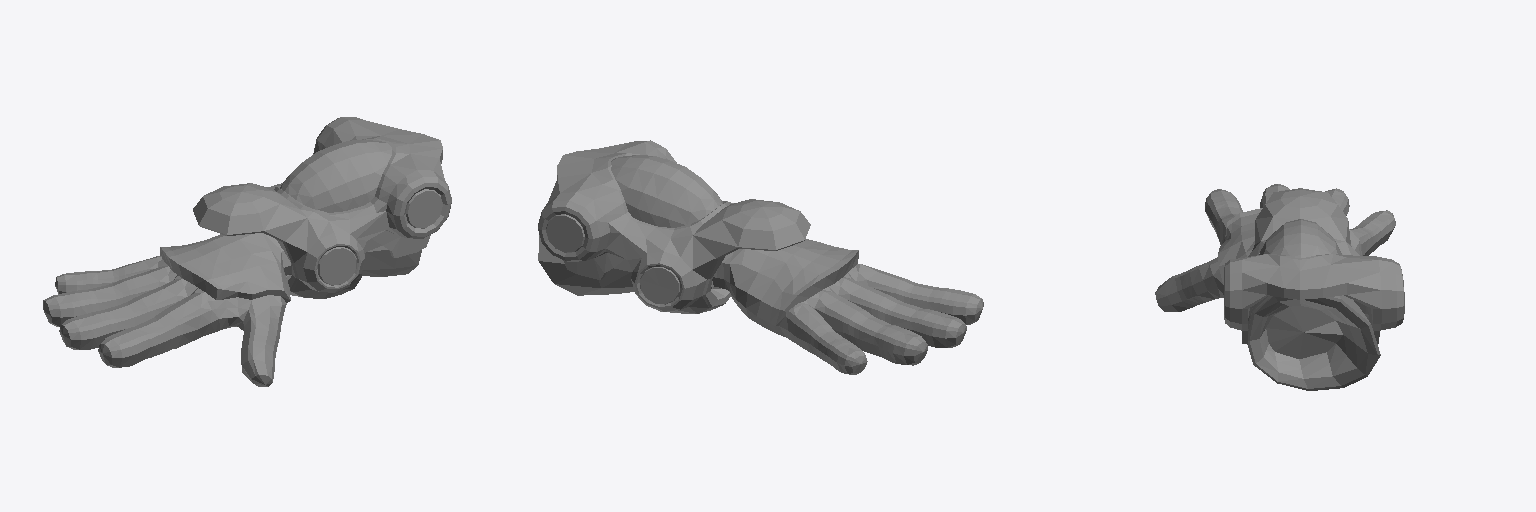
Rendered from CryoMineGlove.obj.
3 views of the same model, side by side, from view 1: azimuth 30°, elevation 25°; view 2: azimuth 150°, elevation 25°; view 3: azimuth 270°, elevation 25° (orthographic).
Visible parts, largest first — view 1: Mesh_1, Mesh_3, Mesh_4; view 2: Mesh_1, Mesh_3, Mesh_4; view 3: Mesh_1, Mesh_3, Mesh_4.
Boxes of the visible parts, box(x1,y1,x2,y2) form: Mesh_1: box(43, 233, 421, 386); Mesh_3: box(193, 117, 451, 298); Mesh_4: box(280, 139, 391, 212); Mesh_1: box(538, 235, 983, 374); Mesh_3: box(538, 140, 810, 313); Mesh_4: box(611, 155, 722, 227); Mesh_1: box(1155, 184, 1395, 390); Mesh_3: box(1224, 188, 1404, 343); Mesh_4: box(1259, 219, 1341, 257).
Bounding box in the file's own units: 6.1 × 2.33 × 3.39.